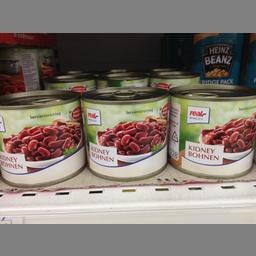beans: (80, 86, 169, 178), (172, 82, 254, 180), (0, 88, 80, 187)
